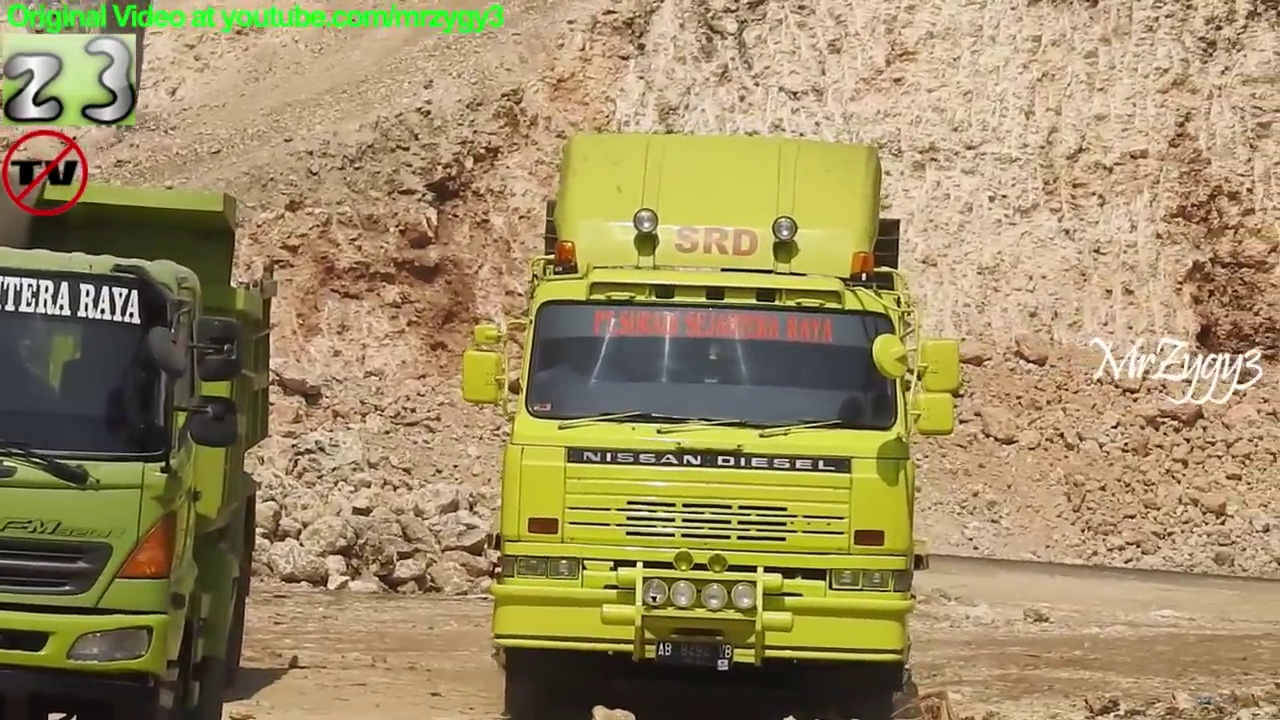truck: (451, 123, 971, 720), (1, 152, 282, 720)
